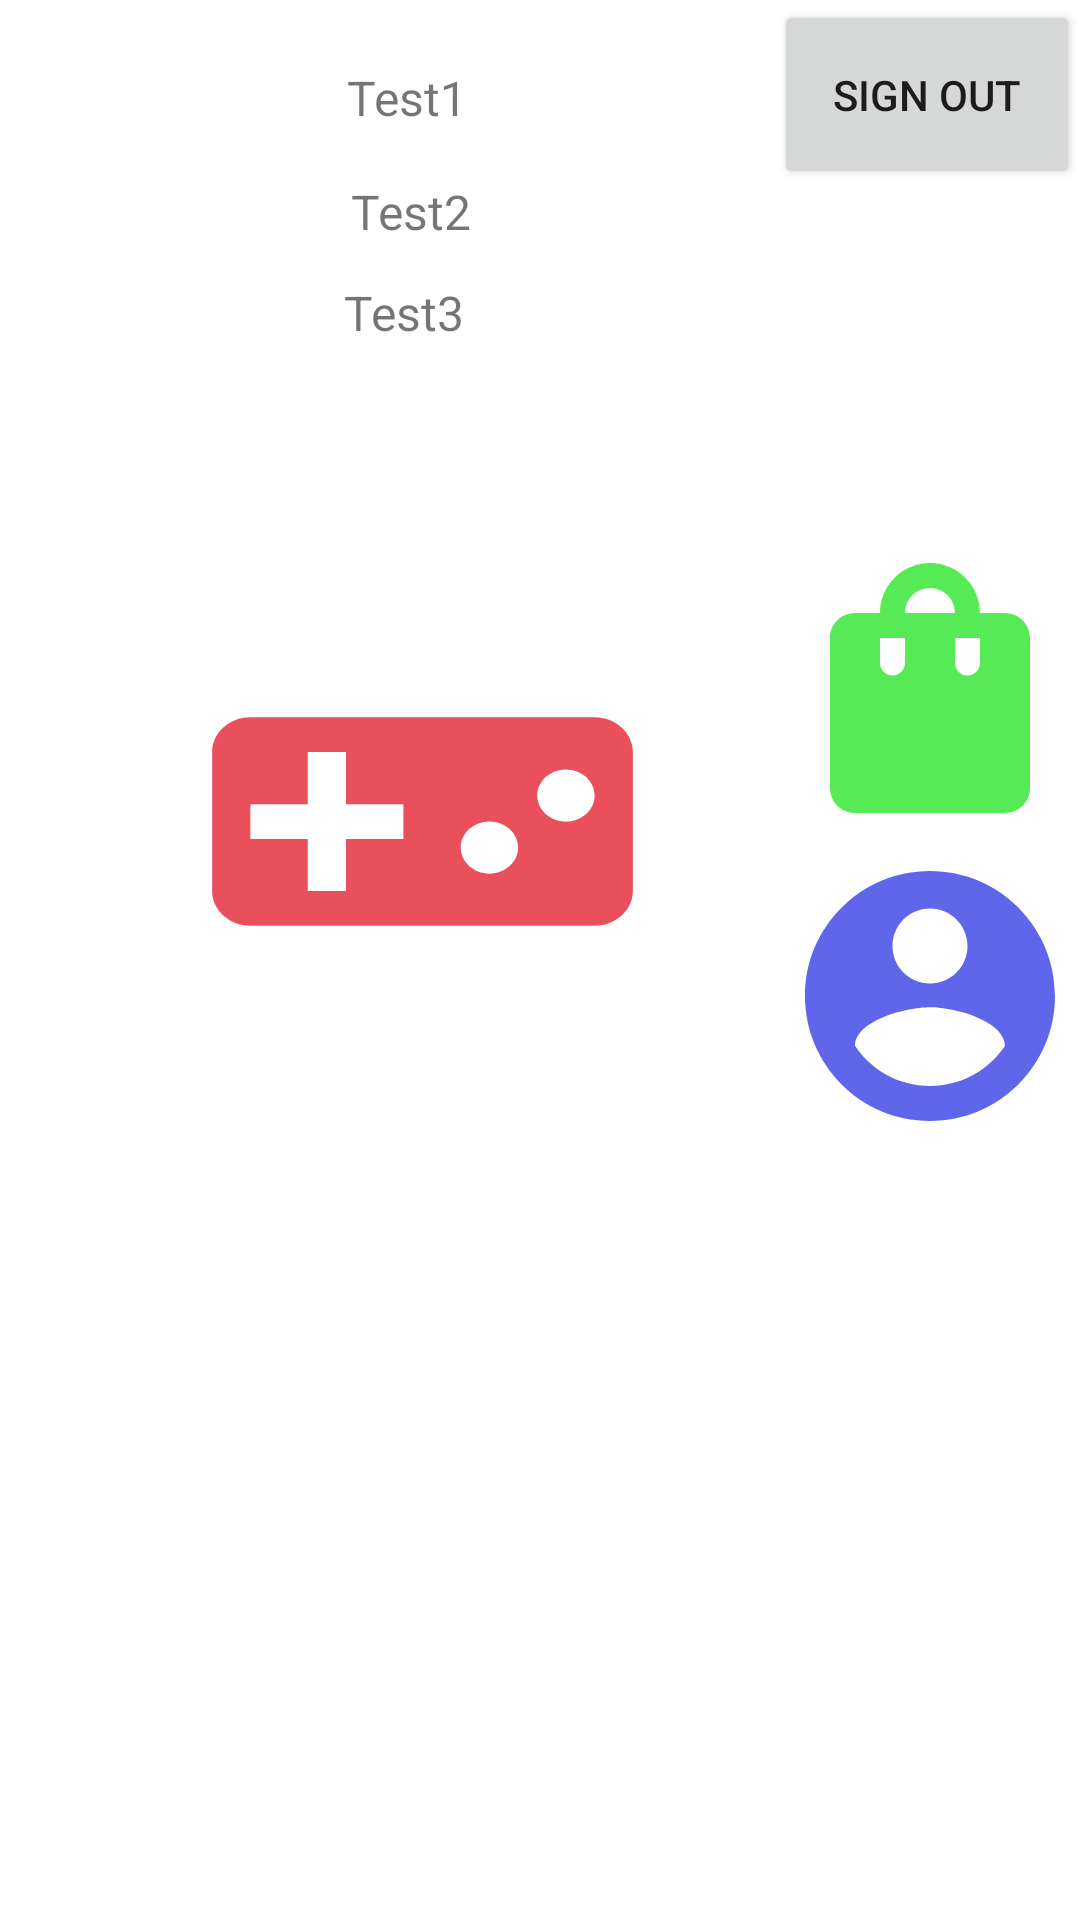

Screen size 1080x1920. Icon name, then its center in pixels as [x,y]:
profile: [930,996]
shopicon: [930,688]
